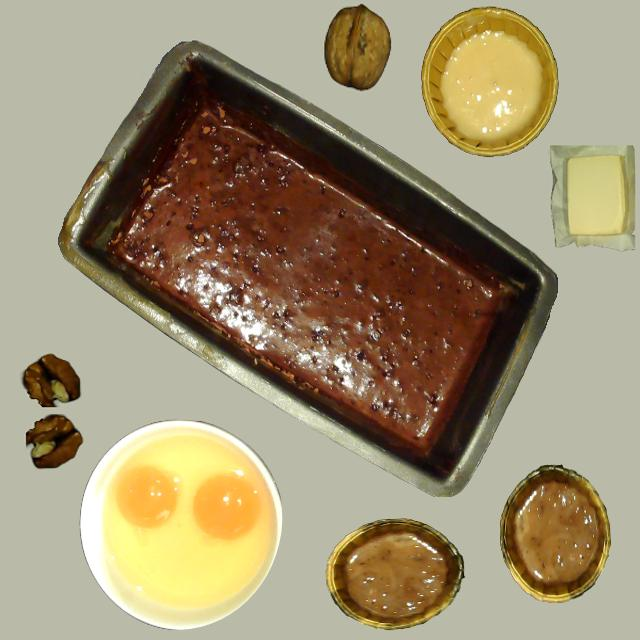Egg: (192, 473, 260, 541), (116, 467, 180, 529)
Walnut: (325, 5, 391, 90)
